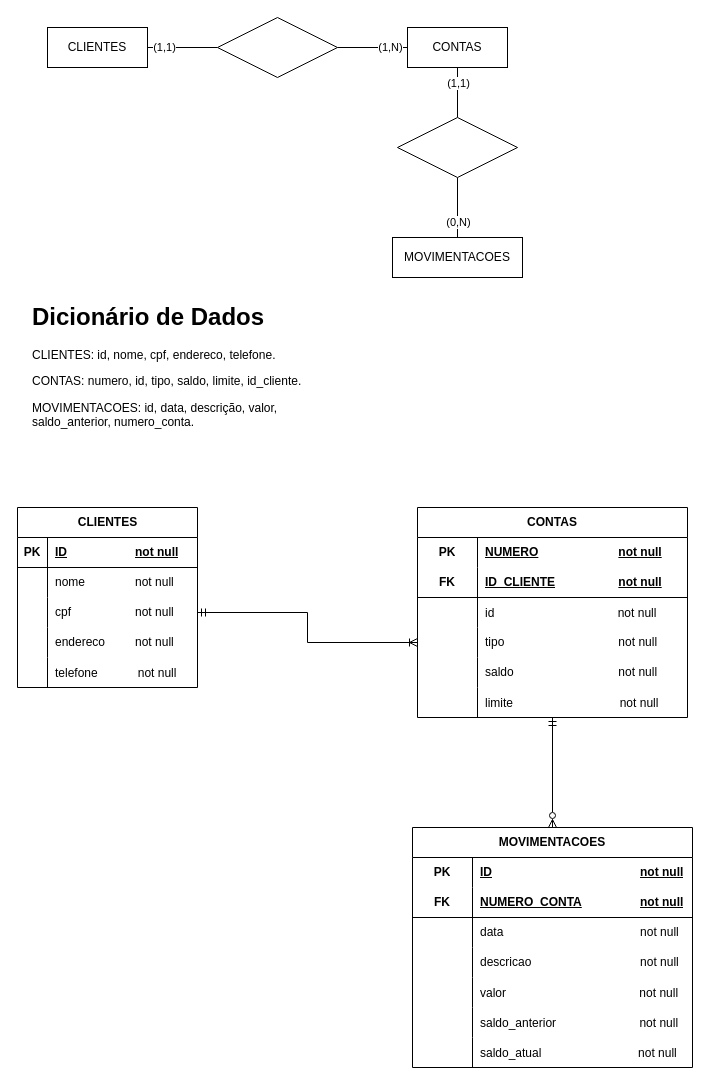
The diagram is 710 pixels wide and 1085 high, and some of its shapes have lost their labels. Here are the shapes that lost their labels. From the top down, the box of each, then its label:
(216, 16, 338, 78): Possuem
(396, 116, 518, 178): Realizam
